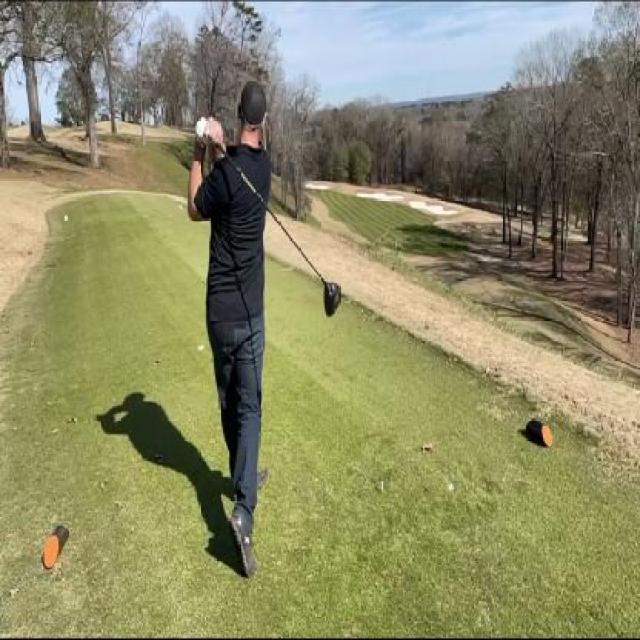club head: (320, 274, 342, 318)
